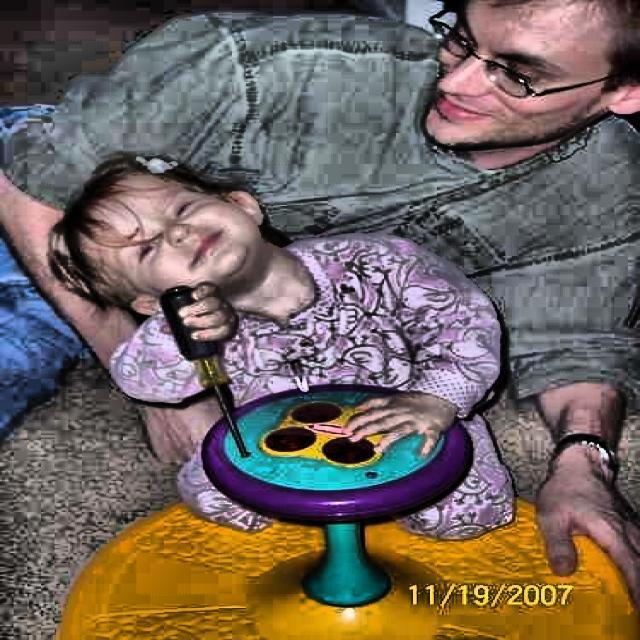screwdriver: (158, 286, 250, 456)
